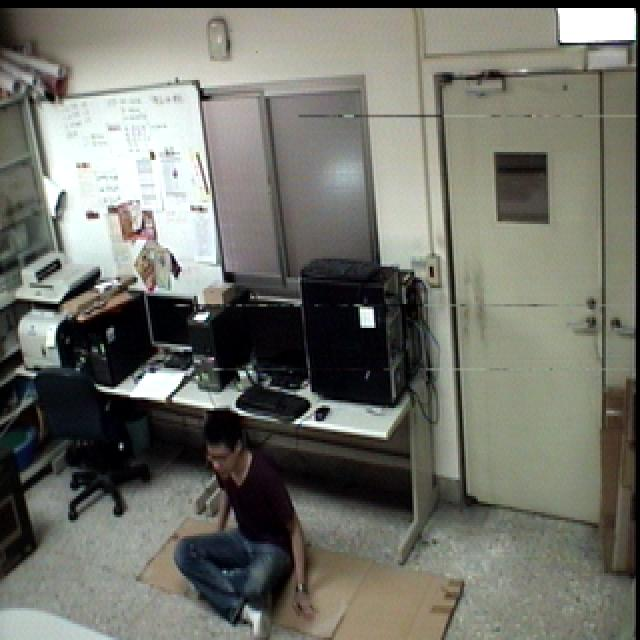sit: (170, 407, 320, 640)
